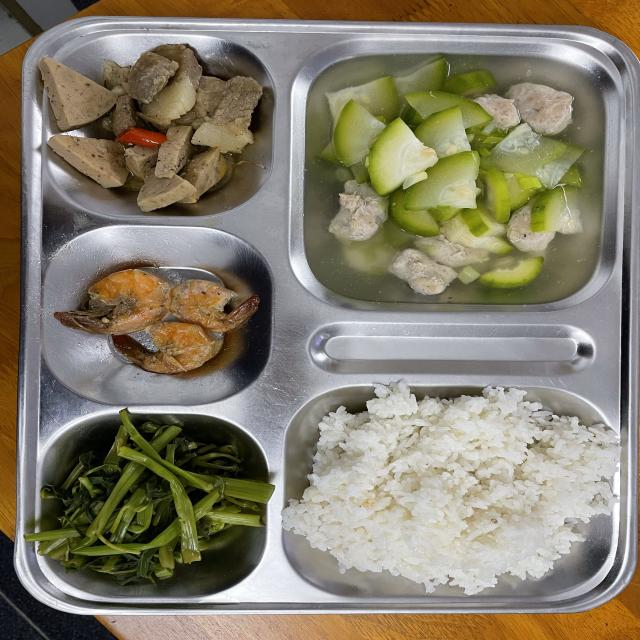com_trang: (326, 412, 593, 578)
rau_muong_xao: (84, 430, 242, 570)
thit_kho: (98, 56, 268, 203)
